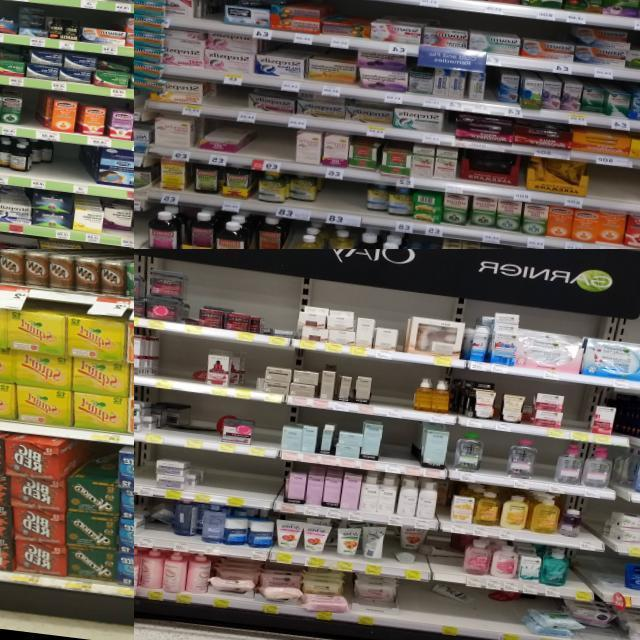empty: (587, 165, 640, 222), (223, 458, 277, 510), (398, 596, 468, 636), (467, 597, 524, 640), (49, 141, 92, 194), (249, 124, 295, 172), (373, 366, 415, 418), (321, 179, 365, 226), (155, 344, 194, 391), (479, 431, 512, 486), (560, 391, 593, 441), (198, 453, 228, 505), (186, 402, 217, 451), (378, 419, 406, 473), (248, 411, 279, 457), (532, 439, 557, 492), (566, 554, 594, 600), (216, 84, 248, 120), (134, 446, 157, 495), (577, 505, 601, 550), (18, 88, 40, 137), (402, 423, 419, 474), (240, 359, 260, 399), (204, 0, 226, 32)
